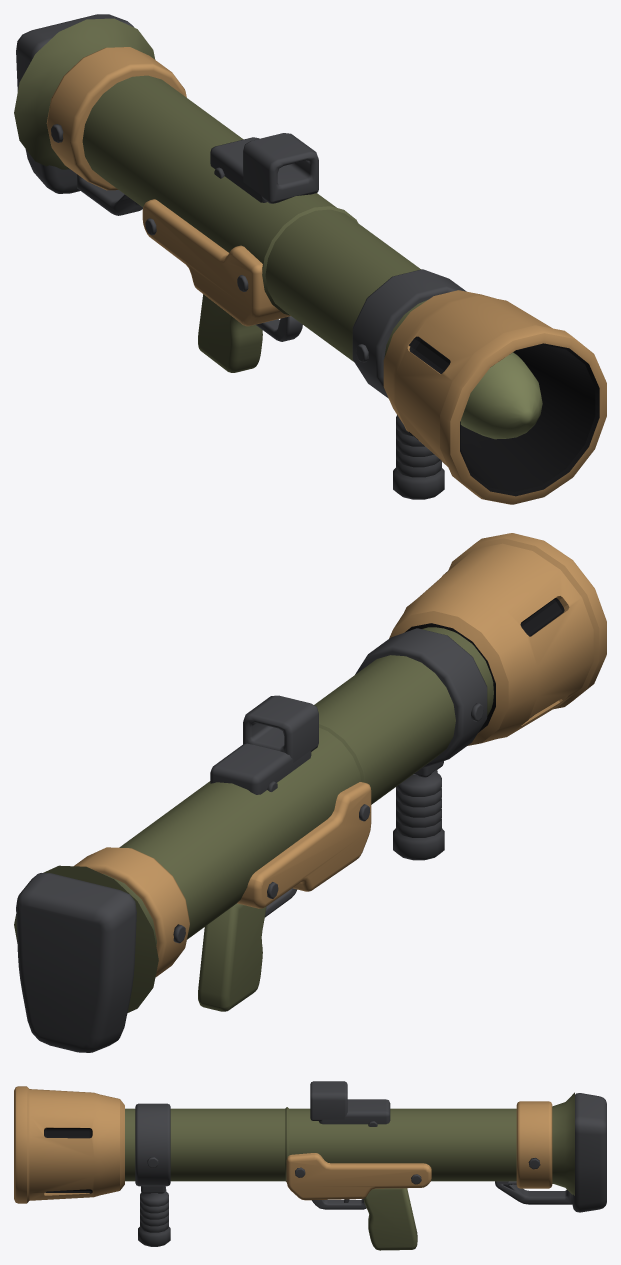
The model's file is rocket_launcher.glb.
3 views of the same model, one above another, from view 1: azimuth 30°, elevation 25°; view 2: azimuth 150°, elevation 25°; view 3: azimuth 270°, elevation 25° (orthographic). The views are drawn at different scales.
Visible parts, largest first — view 1: tube, front_flare, rear_flare, side_panel, sight, front_clamp, rocket_tip, rear_grip, front_grip, rear_pad, shoulder_rest; view 2: tube, front_flare, rear_pad, rear_flare, side_panel, sight, rear_grip, front_clamp, front_grip; view 3: tube, front_flare, rear_flare, side_panel, rear_pad, rear_grip, front_clamp, sight, front_grip, shoulder_rest.
Boxes of the visible parts, x1,y1,x2,y2 form: tube: (82,75,427,361); front_flare: (383,290,606,504); rear_flare: (14,18,186,190); side_panel: (142,199,290,326); sight: (210,133,318,203); front_clamp: (352,269,466,398); rocket_tip: (460,352,542,439); rear_grip: (198,294,302,372); front_grip: (393,415,444,499); rear_pad: (16,14,134,193); shoulder_rest: (77,174,142,215); tube: (119,627,493,939); front_flare: (389,533,606,745); rear_pad: (16,873,136,1052); rear_flare: (14,847,189,1012); side_panel: (237,782,371,908); sight: (210,695,318,794); rear_grip: (198,888,296,1011); front_clamp: (355,628,487,777); front_grip: (393,769,444,860); tube: (125,1107,516,1181); front_flare: (14,1086,124,1203); rear_flare: (516,1092,574,1195); side_panel: (286,1153,431,1200); rear_pad: (572,1093,606,1212); rear_grip: (312,1188,417,1250); front_clamp: (135,1103,170,1193); sight: (310,1081,390,1126); front_grip: (138,1186,170,1246); shoulder_rest: (495,1181,572,1204).
Bounding box in the file's own units: 0.255 × 0.3874 × 1.3.
